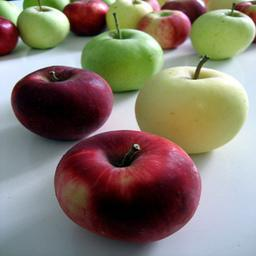apple: (53, 130, 203, 242), (134, 63, 248, 160), (8, 65, 113, 143), (80, 27, 164, 93), (188, 8, 256, 60), (15, 4, 69, 49), (136, 9, 191, 50), (62, 1, 108, 36), (104, 1, 154, 32), (232, 1, 255, 25)
